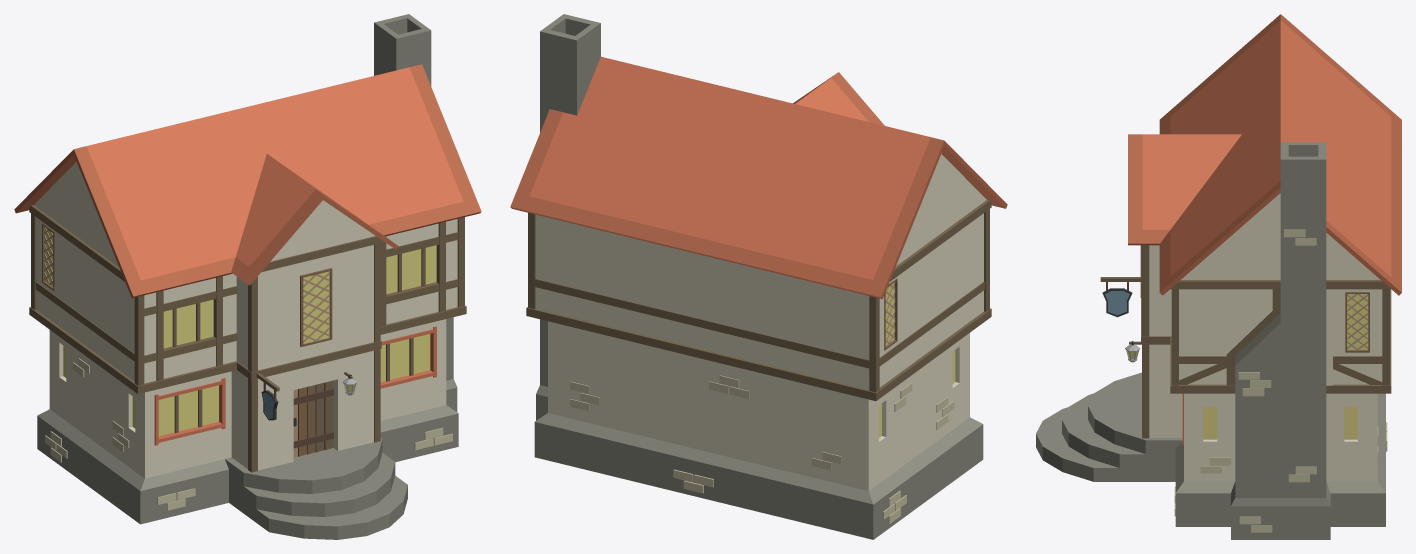
File: House_10.fbx
3 renders of one model, left to right at view 1: azimuth 30°, elevation 25°; view 2: azimuth 150°, elevation 25°; view 3: azimuth 270°, elevation 25°, orthographic. The views are drawn at different scales.
Parts seen in each view (by area): view 1: House_10; view 2: House_10; view 3: House_10.
Part boxes in pixels (x1=…): House_10: x1=14, y1=14, x2=481, y2=539; House_10: x1=510, y1=14, x2=1007, y2=539; House_10: x1=1036, y1=14, x2=1401, y2=539.
Size of the model in its own units: 157 by 155 by 136.
Materials: 1 (1 with a texture image).
